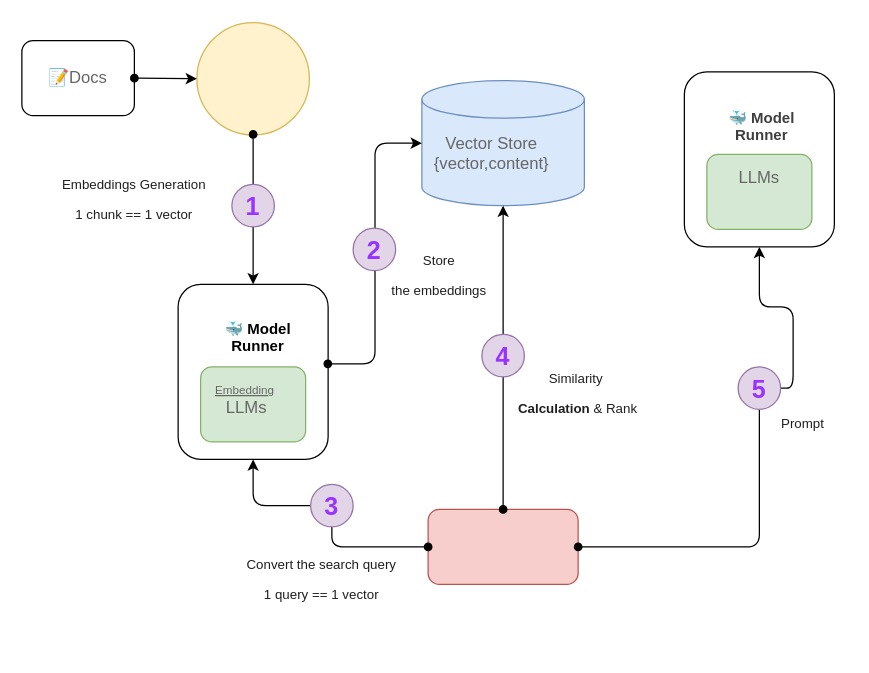
The diagram is 869 pixels wide and 673 high, and some of its shapes have lost their labels. The centre of each missing label's shape, as x and y in pixels:
GenAI app: point (502, 546)
📦📦📦 Chunk the data: point (252, 78)
